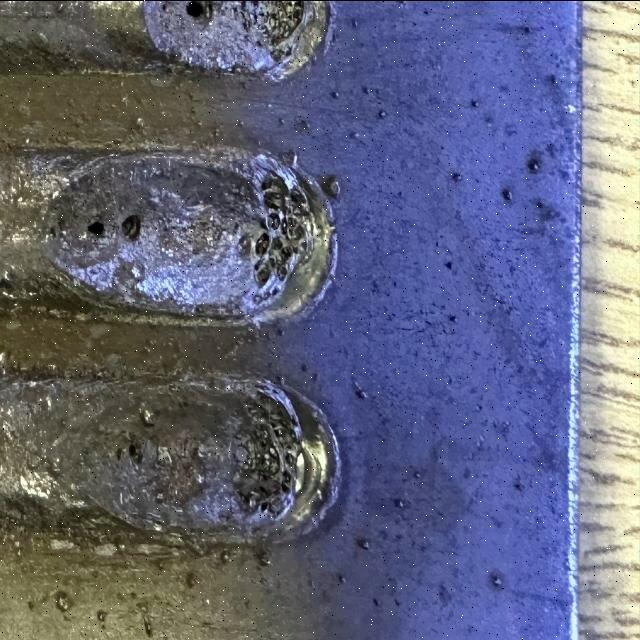Porosity: (231, 388, 301, 518), (254, 168, 311, 302), (240, 0, 303, 62), (121, 213, 140, 240), (128, 442, 141, 463), (88, 220, 104, 235), (184, 1, 202, 14), (46, 225, 57, 239), (57, 219, 64, 237), (115, 447, 122, 460)
Spatters: (320, 173, 340, 198), (55, 590, 72, 612), (139, 405, 155, 427), (255, 548, 271, 567), (352, 380, 367, 398), (490, 572, 503, 588), (355, 537, 370, 550), (219, 548, 231, 563), (501, 188, 512, 202), (96, 608, 106, 622), (529, 158, 540, 170), (412, 468, 421, 478), (452, 172, 461, 182), (338, 572, 346, 583), (394, 498, 403, 507), (349, 130, 359, 138), (471, 98, 479, 107), (379, 108, 386, 118), (351, 17, 358, 27), (331, 90, 339, 98), (155, 561, 162, 570), (278, 117, 285, 125), (372, 599, 379, 605), (239, 118, 243, 125), (268, 102, 272, 108)
